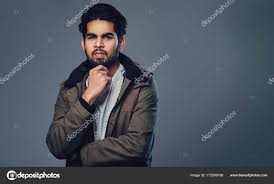Indian_Male: (84, 10, 122, 69)
